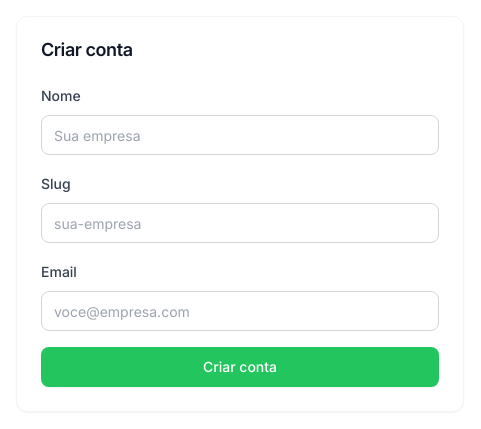
Test case: RegisterPage › mostra "Criando conta..." e mantém o botão desabilitado durante o submit
Type "Test Tenant" into the field labelled "Nome" at (240, 135), box [41,115,439,155]
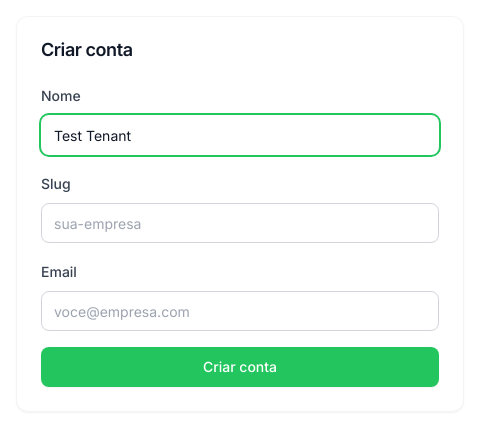
Type "test-tenant" into the field labelled "Slug" at (240, 223), box [41,203,439,243]
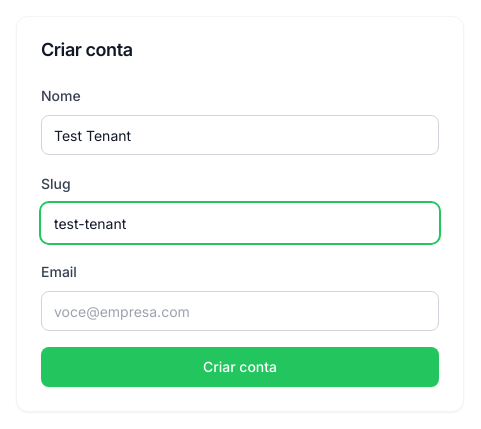
Type "tenant@example.com" into the field labelled "Email" at (240, 311), box [41,291,439,331]
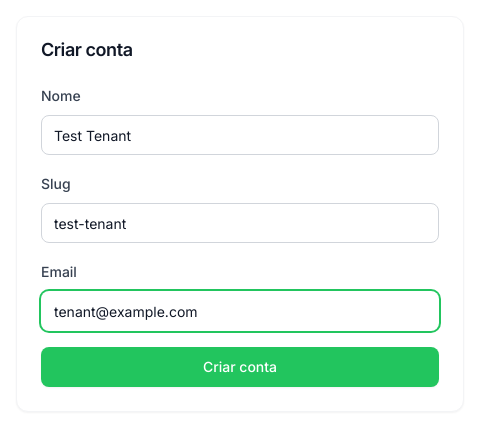
Click the button "Criar conta" at (240, 367), box [41,347,439,387]
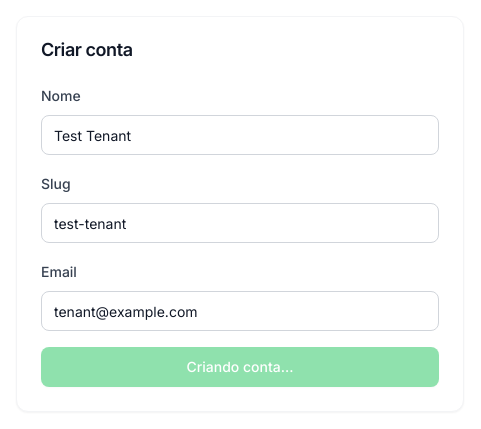
Result: the button "Criando conta..." is shown at [41,347,439,387]
Result: the button "Criando conta..." is disabled at [41,347,439,387]
